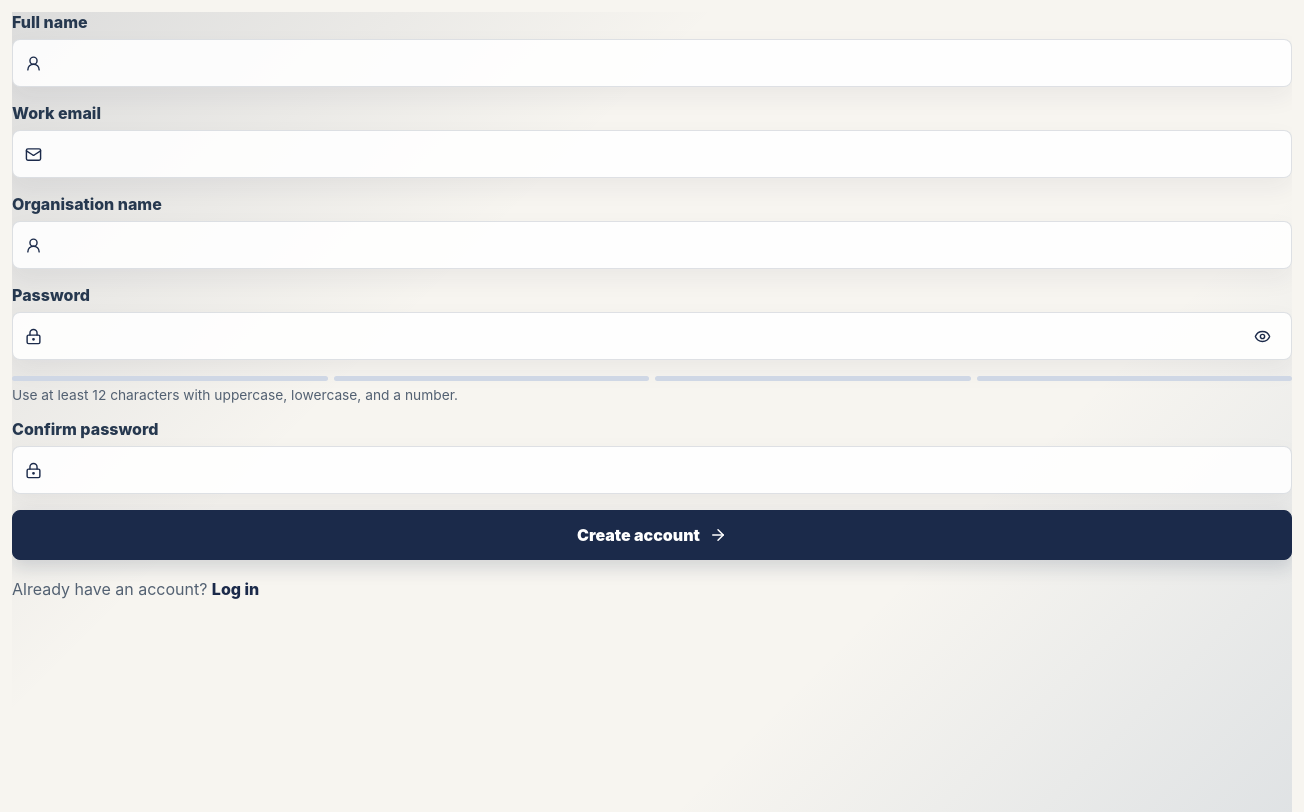
Test: auth forms › shows duplicate registration errors
This screenshot has width=1304, height=812.
In the field labelled "Full name": (660, 63) [52, 41, 1269, 85], type "Ari Patel"
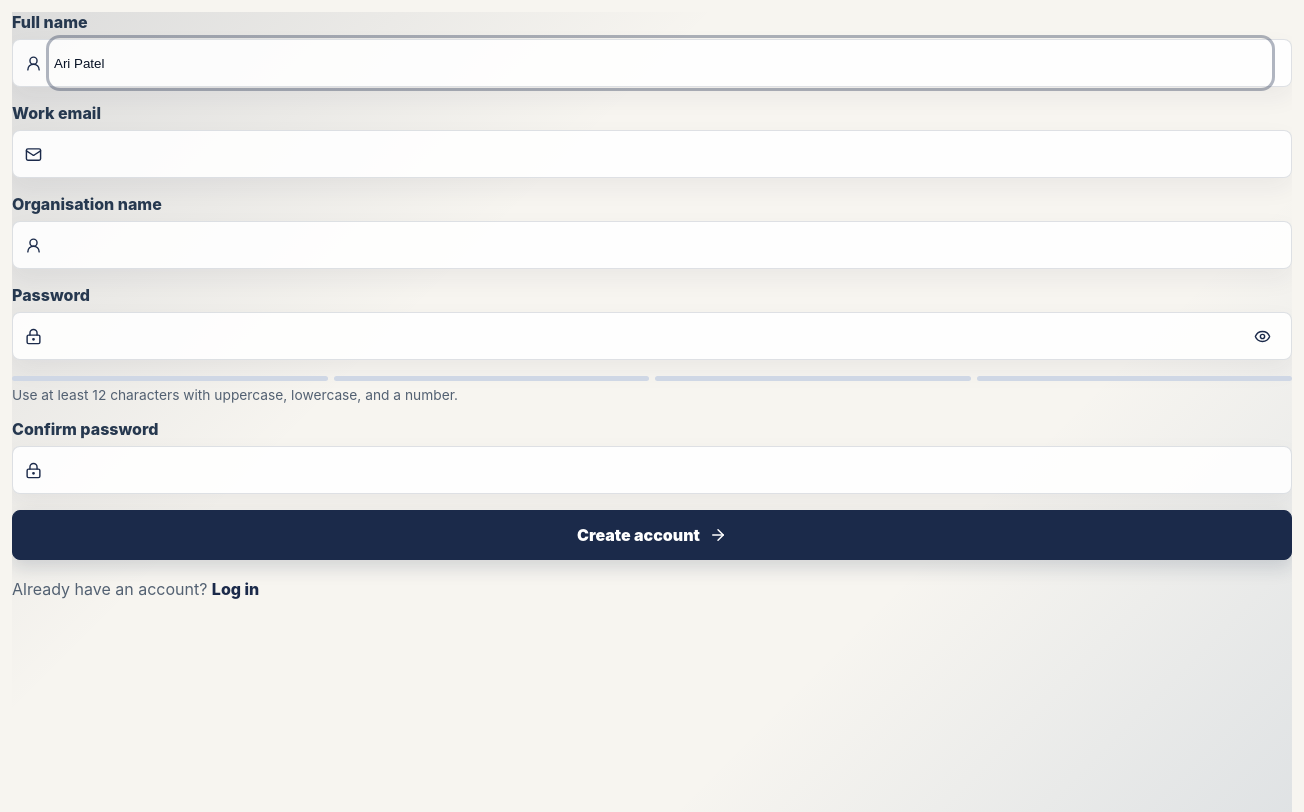
In the field labelled "Work email": (660, 154) [52, 132, 1269, 176], type "ari@example.com"
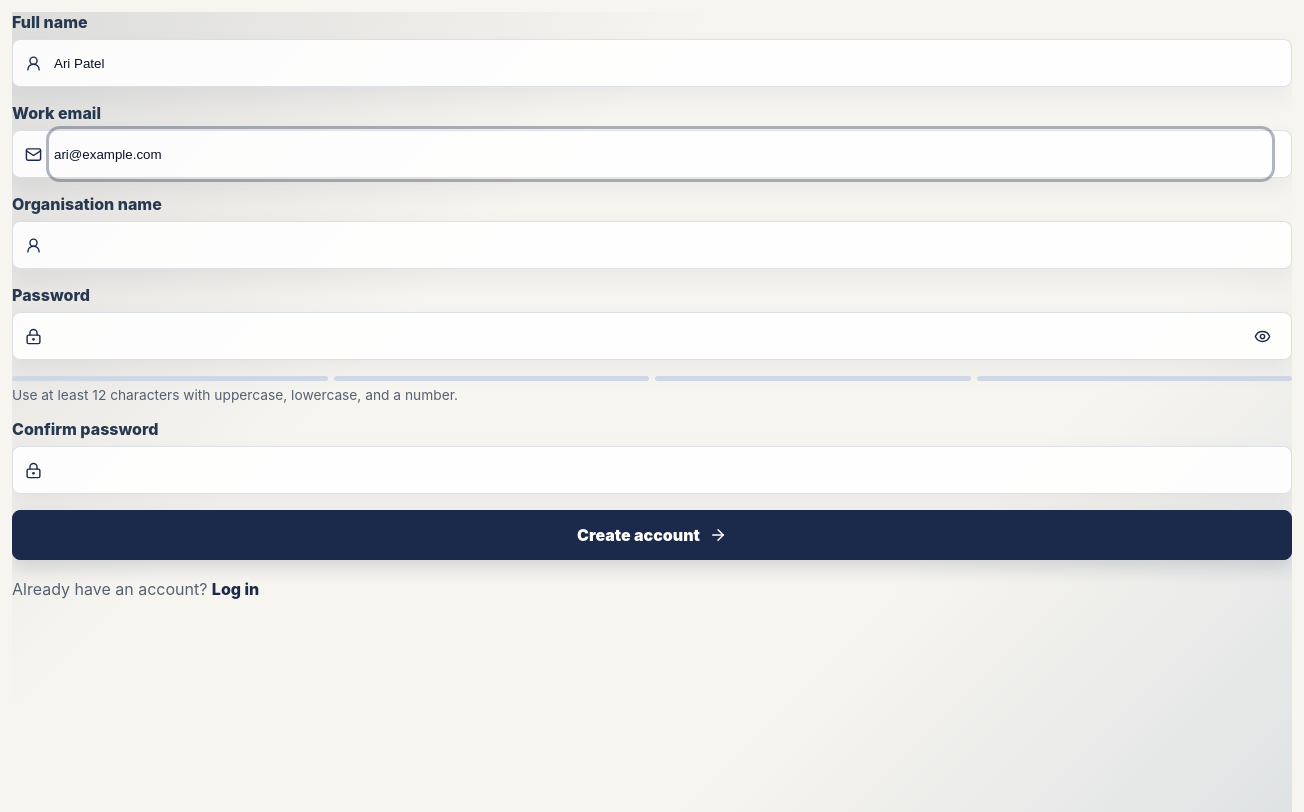
In the field labelled "Organisation name": (660, 245) [52, 223, 1269, 267], type "Acme"
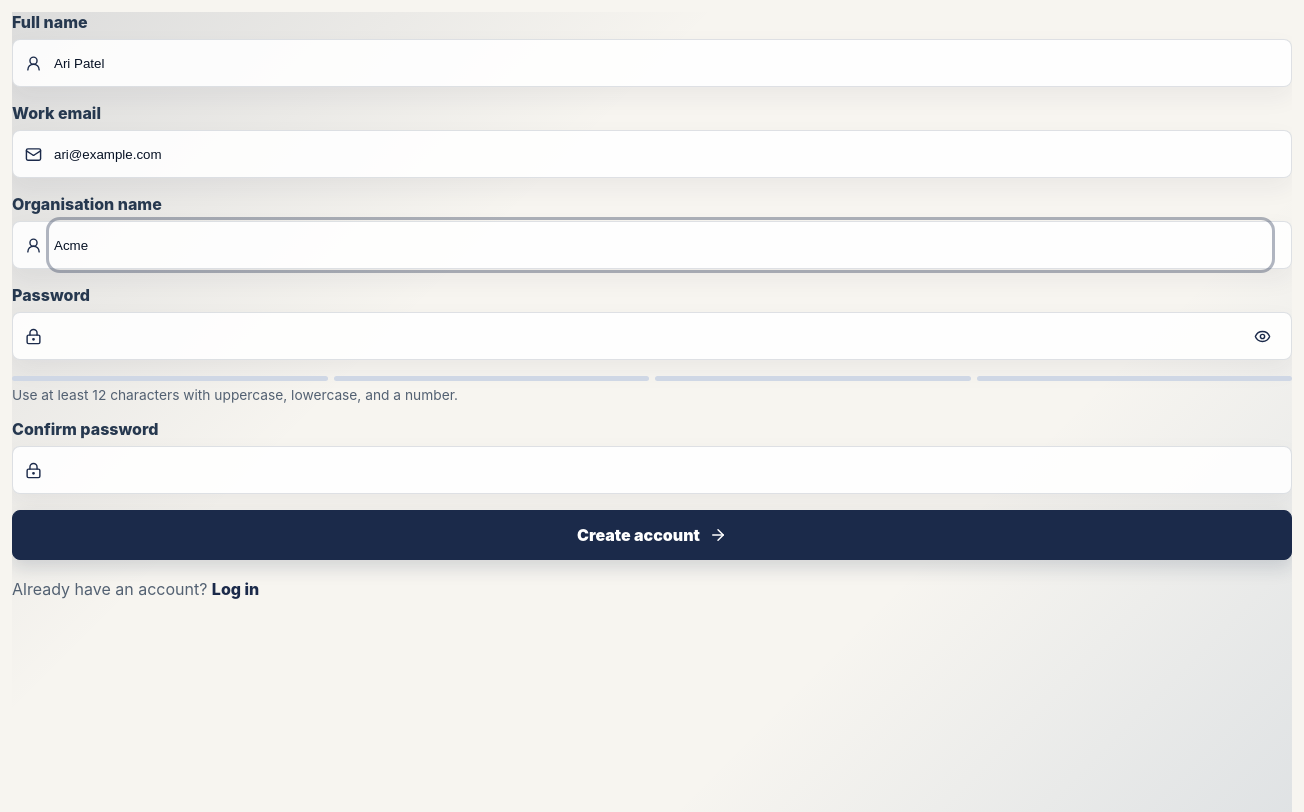
In the password field labelled "Password": (644, 336) [52, 314, 1235, 358], type "SecurePass123"
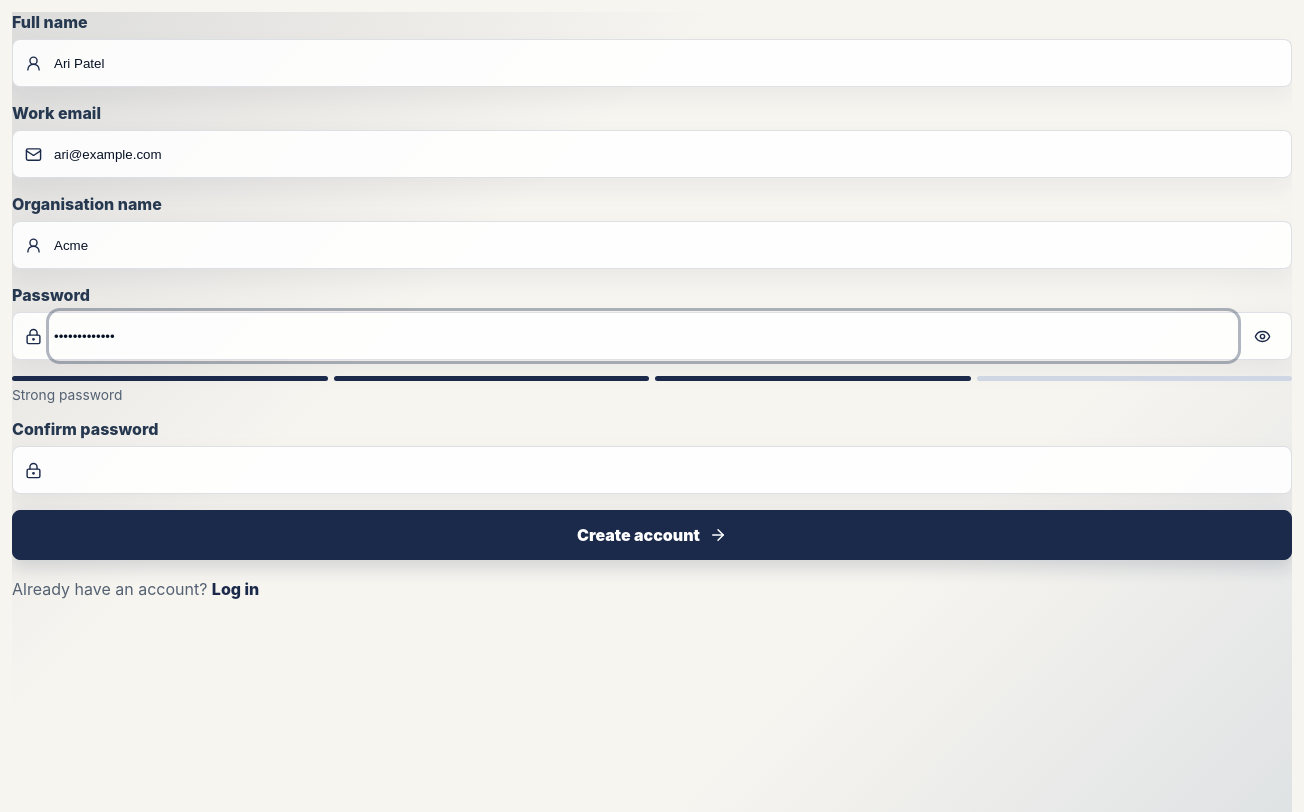
In the password field labelled "Confirm password": (660, 470) [52, 448, 1269, 492], type "SecurePass123"
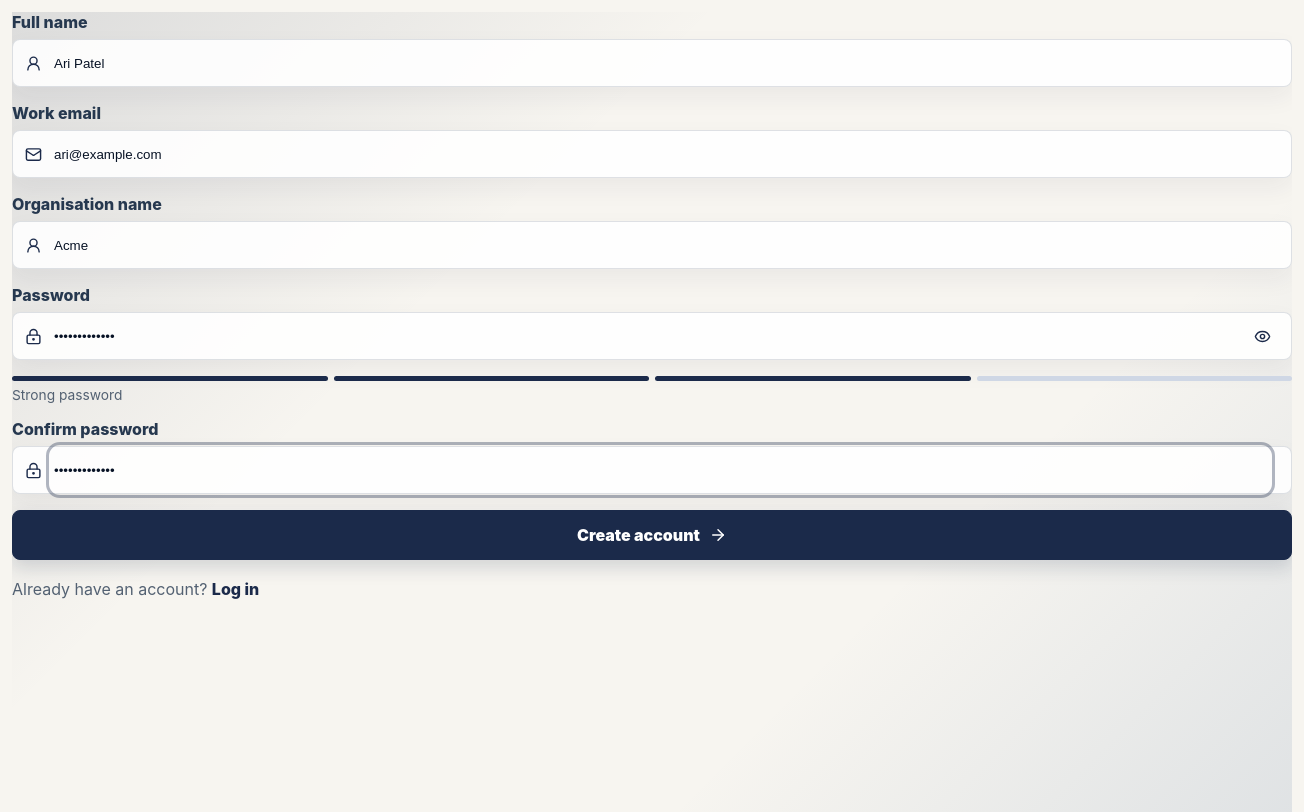
Click the button "Create account": (652, 535) [12, 510, 1292, 560]
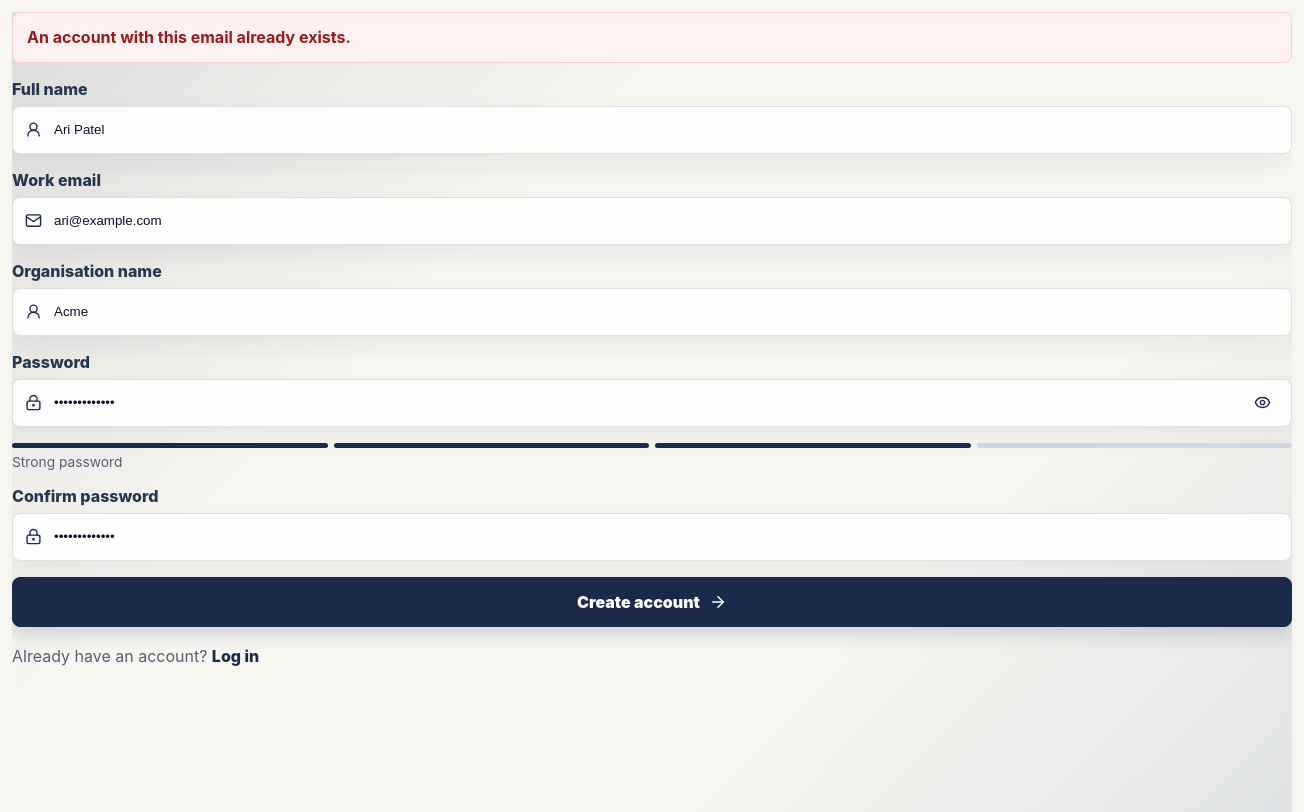
Now the message reads "An account with this email already exists.", box [27, 27, 351, 47]
